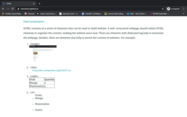

What the dashboard file says about the page in this screenshot:
{"tool":"powerbi","page":{"name":"Query 2","canvas":[1280,720],"ordinal":3},"visuals":[{"type":"textbox","box":[10.5,0,1173,34.9],"z":0},{"type":"hundredPercentStackedBarChart","title":"% Distribution of Gender by Occupation","fields":{"Y":["Sum(Adult Income.Counts)"],"Category":["Adult Income.Occupation.Occupation"],"Series":["Adult Income.Gender.Gender"]},"box":[10.5,34.9,638.3,684.8],"z":1000},{"type":"textbox","box":[648.7,18.6,535.9,684.8],"z":2000}]}

Visuals, with their boxes on the page's 1280x720 design canvas (x1, y1, x2, y2). These are canvas units, not pixel positions in the 187x117 screenshot, which may show the page scaled, cropped or inside an application window:
textbox: <bbox>10, 0, 1184, 35</bbox>
"% Distribution of Gender by Occupation" hundredPercentStackedBarChart: <bbox>10, 35, 649, 720</bbox>
textbox: <bbox>649, 19, 1185, 703</bbox>
